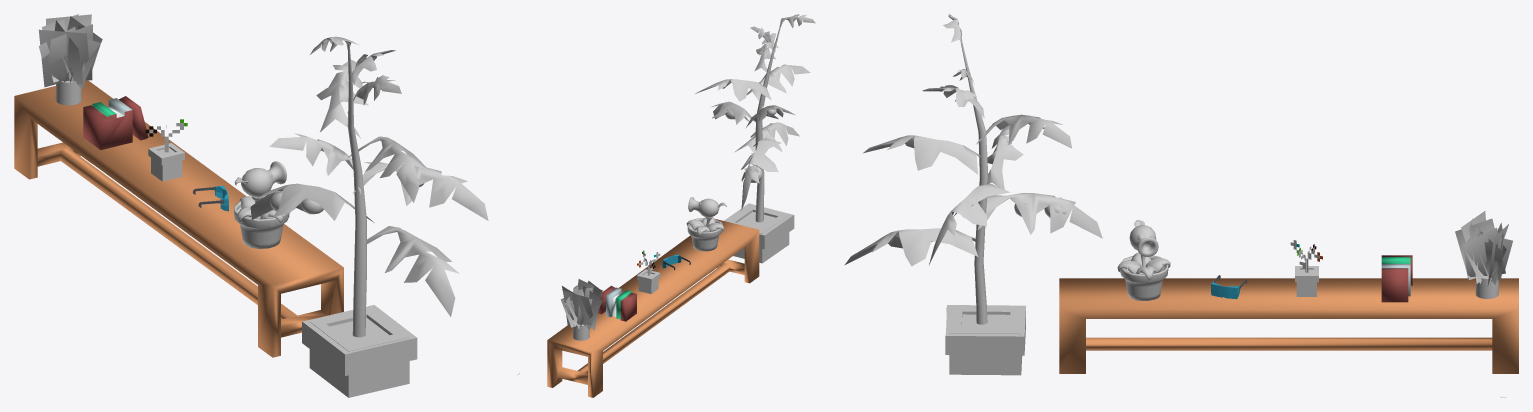
Rendered from salaPlantasLab.obj.
3 views of the same model, side by side, from view 1: azimuth 30°, elevation 25°; view 2: azimuth 150°, elevation 25°; view 3: azimuth 270°, elevation 25° (orthographic). The views are drawn at different scales.
Parts seen in each view (by area): view 1: table, tomato-plant, Pot_1, Peashooter_Cannon_Shader.001, books, 15771a36-724d-9550-5608-aa4001d277ec.002, 3c882947-9bf7-7378-786e-bae260e93e33.002, 64b6d90c-3ec0-0956-d954-0aff89e1196c.002, 5ae4b962-342c-b00e-84b8-0ca30ce7c25e.002, 563ea3db-f3d4-34b7-4653-90862063c2b0.002, ad8fa827-8306-c584-5784-5419cc3b7437.002, 563ea3db-f3d4-34b7-4653-90862063c2b0.006; view 2: table, tomato-plant, Pot_1, Peashooter_Cannon_Shader.001, books, 3c882947-9bf7-7378-786e-bae260e93e33.002, 64b6d90c-3ec0-0956-d954-0aff89e1196c.002, ad8fa827-8306-c584-5784-5419cc3b7437.002; view 3: table, tomato-plant, Pot_1, Peashooter_Cannon_Shader.001, 563ea3db-f3d4-34b7-4653-90862063c2b0.002, c5c1eb7b-3b58-be46-eec1-133c23d4a1c4.002, books, ad8fa827-8306-c584-5784-5419cc3b7437.002.
Part boxes in pixels (<box>): table: <box>14,80,343,357</box>; tomato-plant: <box>250,36,488,337</box>; Pot_1: <box>38,14,102,105</box>; Peashooter_Cannon_Shader.001: <box>234,161,289,248</box>; books: <box>83,96,148,149</box>; 15771a36-724d-9550-5608-aa4001d277ec.002: <box>345,336,415,374</box>; 3c882947-9bf7-7378-786e-bae260e93e33.002: <box>309,319,358,397</box>; 64b6d90c-3ec0-0956-d954-0aff89e1196c.002: <box>302,320,350,375</box>; 5ae4b962-342c-b00e-84b8-0ca30ce7c25e.002: <box>353,334,399,395</box>; 563ea3db-f3d4-34b7-4653-90862063c2b0.002: <box>366,307,409,385</box>; ad8fa827-8306-c584-5784-5419cc3b7437.002: <box>330,318,389,343</box>; 563ea3db-f3d4-34b7-4653-90862063c2b0.006: <box>160,151,182,181</box>; table: <box>547,218,759,397</box>; tomato-plant: <box>695,14,815,222</box>; Pot_1: <box>560,279,602,340</box>; Peashooter_Cannon_Shader.001: <box>686,197,726,251</box>; books: <box>598,285,636,321</box>; 3c882947-9bf7-7378-786e-bae260e93e33.002: <box>759,213,789,263</box>; 64b6d90c-3ec0-0956-d954-0aff89e1196c.002: <box>761,214,794,249</box>; ad8fa827-8306-c584-5784-5419cc3b7437.002: <box>737,212,775,228</box>; table: <box>1059,278,1518,373</box>; tomato-plant: <box>844,14,1102,324</box>; Pot_1: <box>1455,211,1512,298</box>; Peashooter_Cannon_Shader.001: <box>1117,220,1170,300</box>; 563ea3db-f3d4-34b7-4653-90862063c2b0.002: <box>949,329,1021,375</box>; c5c1eb7b-3b58-be46-eec1-133c23d4a1c4.002: <box>945,333,1024,355</box>; books: <box>1381,255,1412,302</box>; ad8fa827-8306-c584-5784-5419cc3b7437.002: <box>961,314,1010,329</box>.
Bounding box in the file's own units: 3.25 × 6.55 × 12.36.
